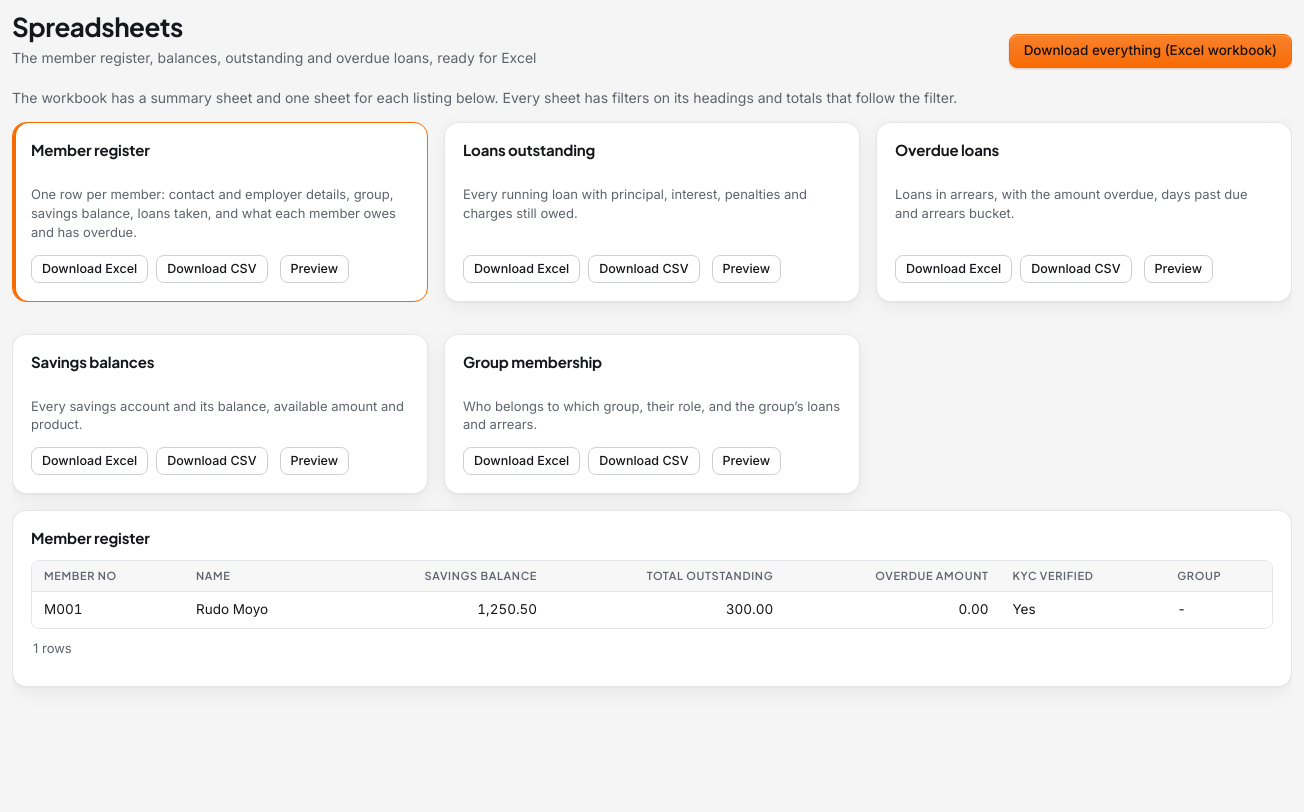
Spreadsheets › switches the preview to another sheet
Expected: the text "Rudo Moyo" is shown, [184,592,335,628]
Click the 3rd button "Preview".
click(1178, 269)  # box [1144,255,1213,283]
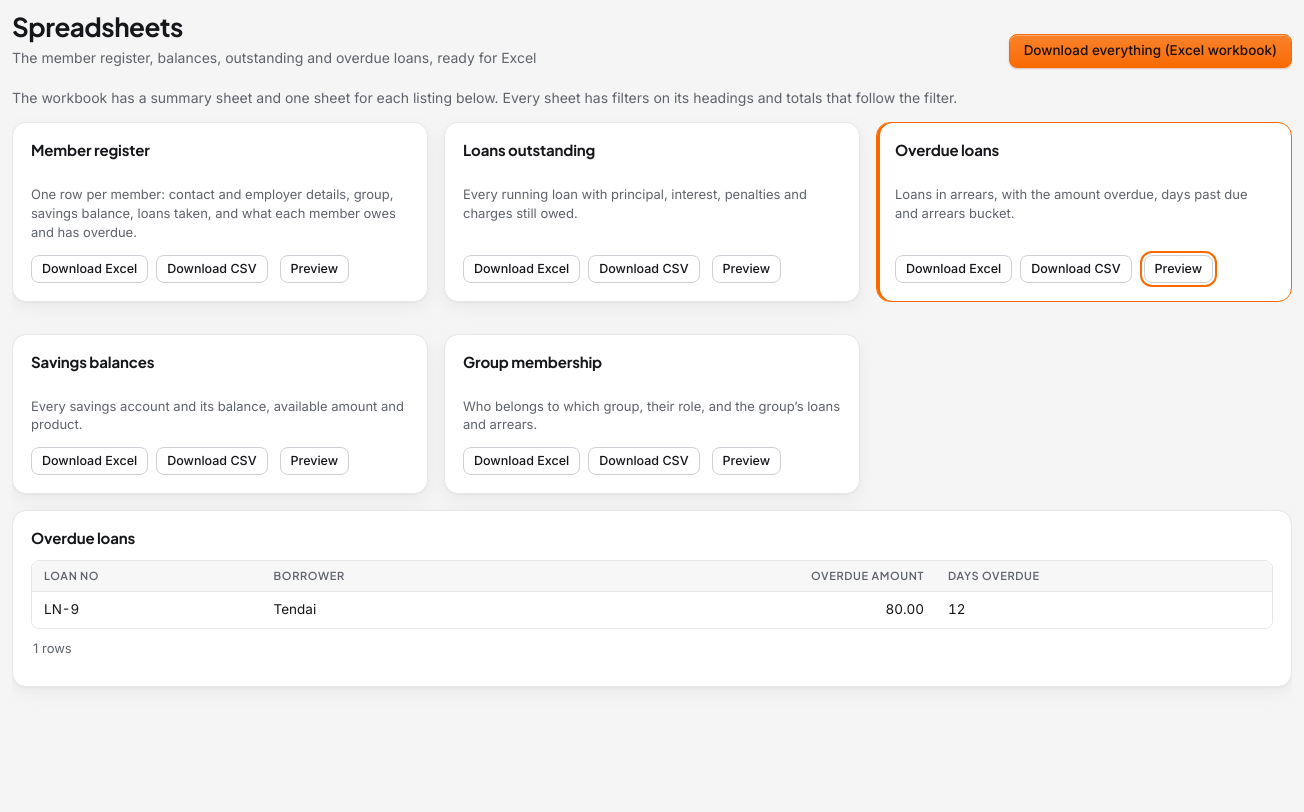
Now the text "LN-9" is shown, box [32,592,262,628]
